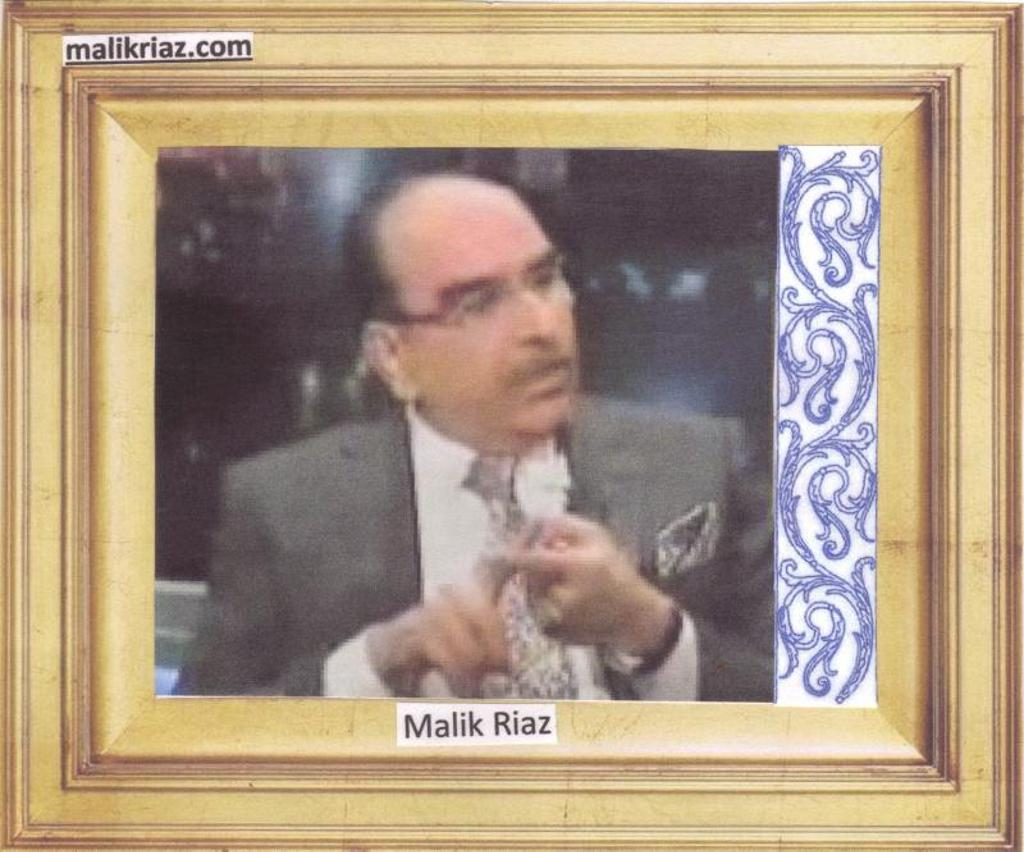face: (390, 180, 574, 424)
